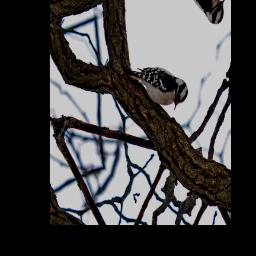Woodpecker: (120, 40, 191, 131)
